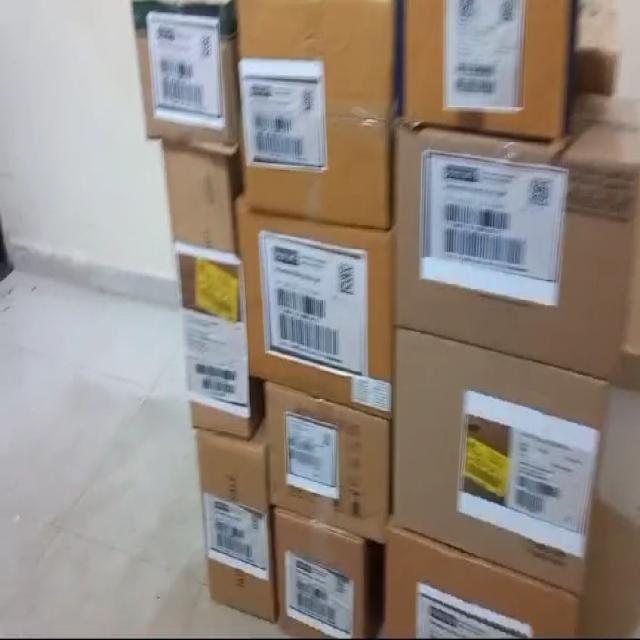BoxFace: (391, 319, 614, 598), (400, 130, 640, 381), (228, 0, 402, 232), (227, 192, 401, 418), (155, 131, 260, 445), (404, 0, 578, 144), (262, 378, 391, 535), (128, 0, 246, 157), (189, 418, 277, 627), (266, 502, 380, 640)
